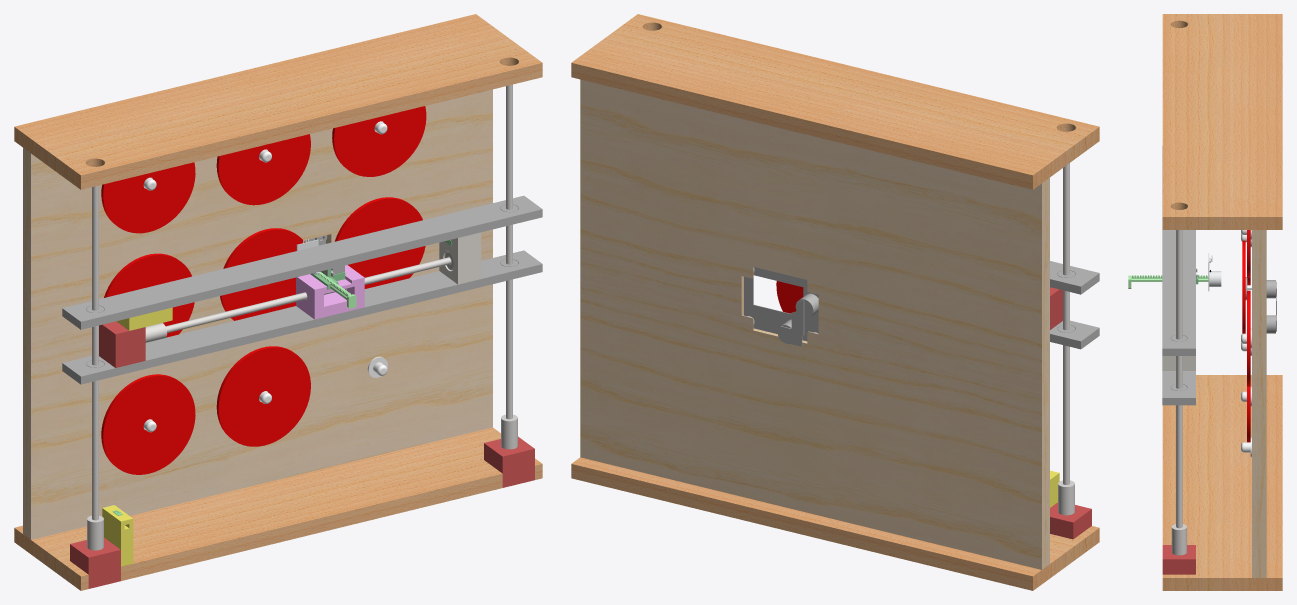
The model's file is jukebox.gltf.
3 renders of one model, left to right at view 1: azimuth 30°, elevation 25°; view 2: azimuth 150°, elevation 25°; view 3: azimuth 270°, elevation 25°, orthographic. The views are drawn at different scales.
Visible parts, largest first — view 1: plaqueGrande-1, socleGrand-1, socleBasGrand-1, nacelle_grande_hautGrand-1, nacelle_grande_basGrand-1, cd-35, cd-38, cd-25, cd-39, cd-36, cd-40, cd-42 (+11 smaller); view 2: plaqueGrande-1, socleGrand-1, socleBasGrand-1, lecteur_cd_v2-1, tige_filetee-3, servo_moteur-6, nacelle_grande_hautGrand-1, nacelle_grande_basGrand-1; view 3: socleGrand-1, socleBasGrand-1, plaqueGrande-1, nacelle_grande_hautGrand-1, tige_filetee-4, nacelle_grande_basGrand-1, servo_moteur-5, lecteur_cd_v2-1, support_roulements-4, cd-40, cd-42, pusher_100mm_long-3 (+2 smaller).
Boxes of the visible parts, <box> form: plaqueGrande-1: <box>23,89,492,539</box>; socleGrand-1: <box>14,14,542,189</box>; socleBasGrand-1: <box>14,427,542,590</box>; nacelle_grande_hautGrand-1: <box>62,195,542,329</box>; nacelle_grande_basGrand-1: <box>62,250,542,384</box>; cd-35: <box>101,374,195,474</box>; cd-38: <box>216,346,310,446</box>; cd-25: <box>101,162,195,233</box>; cd-39: <box>332,106,426,176</box>; cd-36: <box>216,134,310,205</box>; cd-40: <box>335,197,425,288</box>; cd-42: <box>220,228,305,320</box>; plaqueGrande-1: <box>580,79,1049,569</box>; socleGrand-1: <box>571,14,1099,189</box>; socleBasGrand-1: <box>571,457,1099,590</box>; lecteur_cd_v2-1: <box>744,267,818,346</box>; tige_filetee-3: <box>1058,163,1074,515</box>; servo_moteur-6: <box>1050,502,1091,539</box>; nacelle_grande_hautGrand-1: <box>1050,261,1099,294</box>; nacelle_grande_basGrand-1: <box>1050,320,1099,349</box>; socleGrand-1: <box>1162,14,1282,229</box>; socleBasGrand-1: <box>1162,375,1282,590</box>; plaqueGrande-1: <box>1252,230,1266,577</box>; nacelle_grande_hautGrand-1: <box>1162,146,1195,355</box>; tige_filetee-4: <box>1171,230,1186,555</box>; nacelle_grande_basGrand-1: <box>1162,371,1195,405</box>; servo_moteur-5: <box>1162,545,1195,574</box>; lecteur_cd_v2-1: <box>1245,277,1276,333</box>; support_roulements-4: <box>1162,356,1195,370</box>; cd-40: <box>1247,290,1250,386</box>; cd-42: <box>1242,240,1245,333</box>; pusher_100mm_long-3: <box>1128,275,1208,288</box>.
Size of the model in its own units: 0.6 by 0.516 by 0.1926.
Materials: 21 (3 with a texture image).
